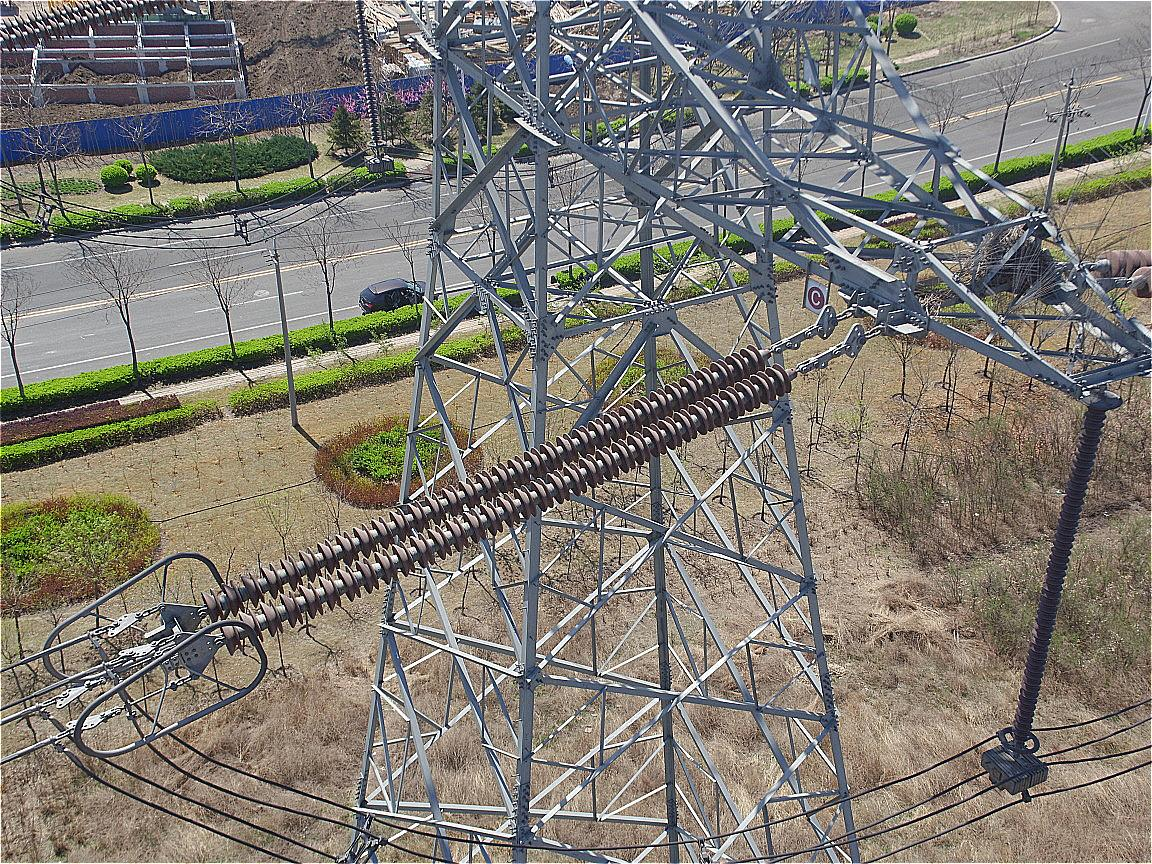insultor2: (201, 345, 793, 656), (1009, 408, 1109, 740)
